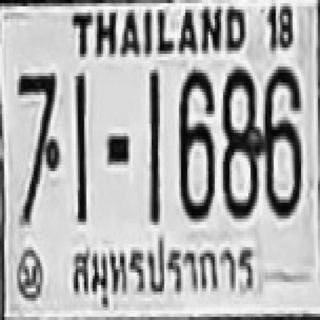N01: (148, 70, 158, 222), (75, 71, 85, 220)
N06: (260, 64, 300, 215), (177, 66, 213, 218)
N07: (17, 70, 59, 222)
N08: (221, 66, 261, 216)
P57: (66, 230, 257, 302)
